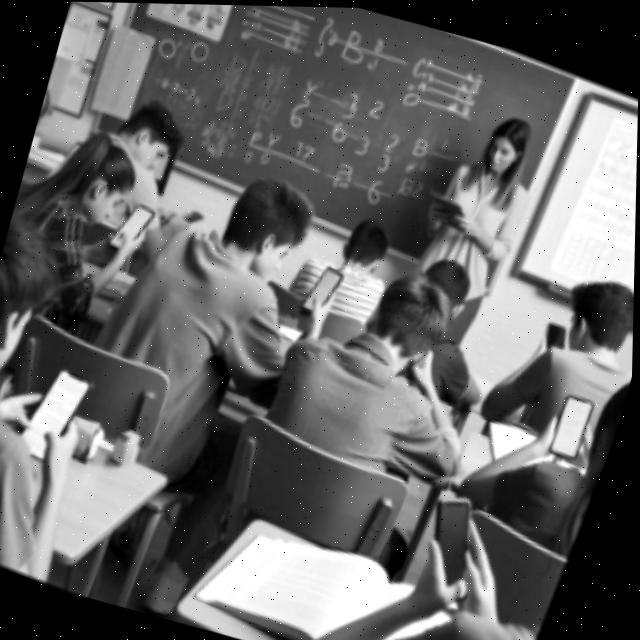phone: (407, 482, 503, 603), (13, 356, 99, 470), (546, 383, 600, 458), (108, 194, 157, 255), (300, 256, 347, 318), (158, 196, 206, 237), (538, 314, 575, 355), (183, 204, 205, 223)
